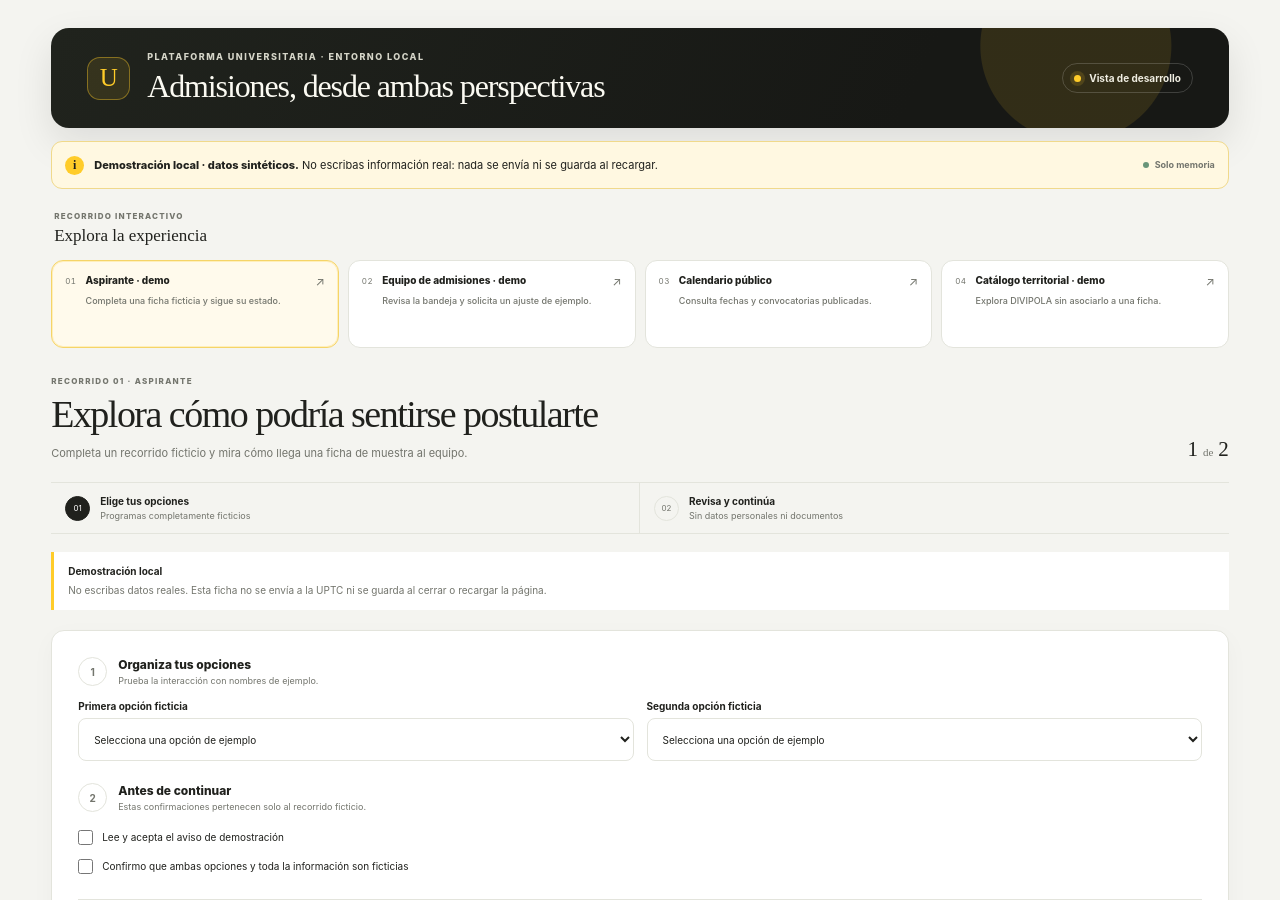
it: AdmissionsWorkflowLab › offers a reference-only territorial selector that does not create an admissions case
This screenshot has width=1280, height=900.
Click the tab "Catálogo territorial": (1085, 304) [941,260,1229,348]
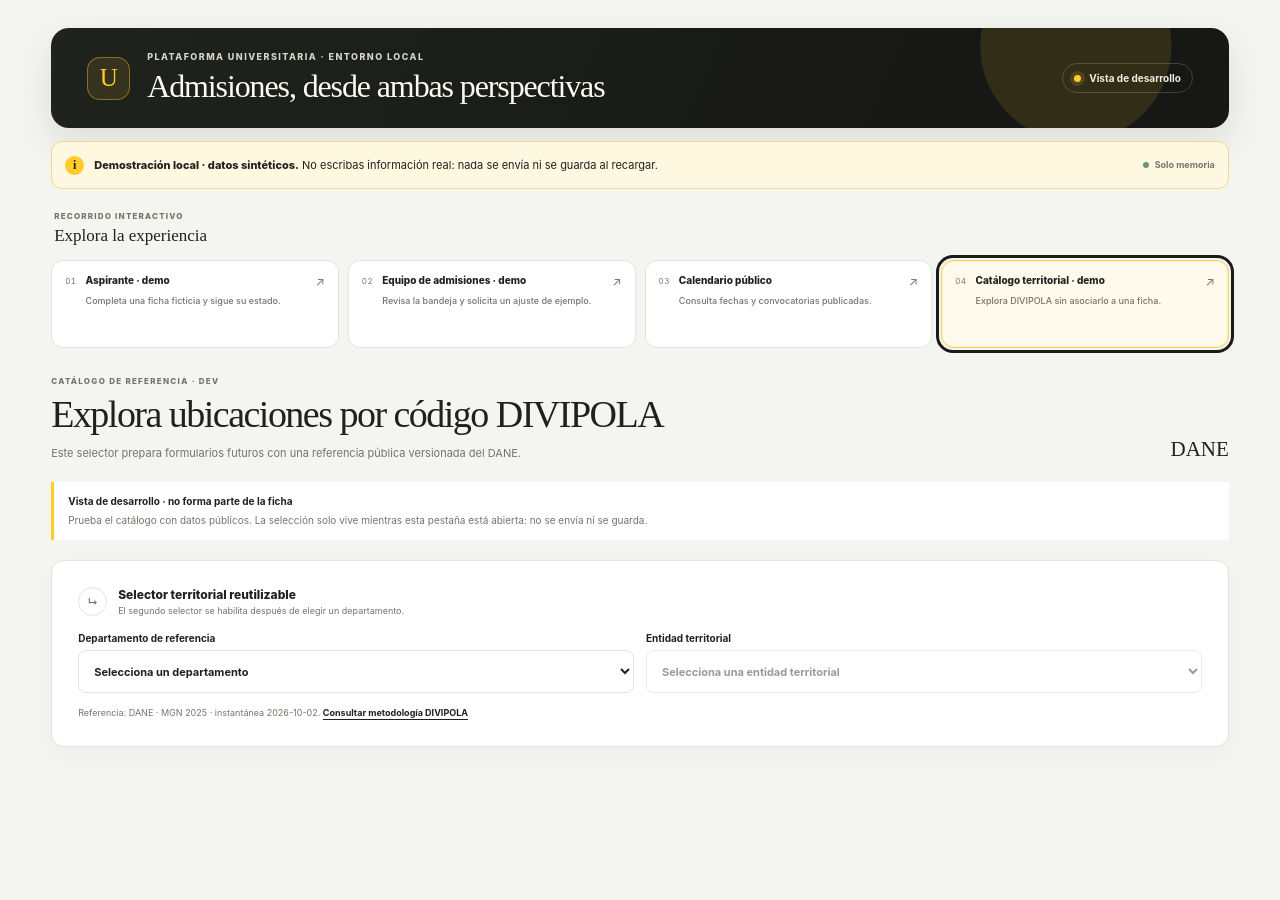
Select "BOYACÁ · 15" in the dropdown labelled "Departamento de referencia": (356, 672) [78,650,634,693]
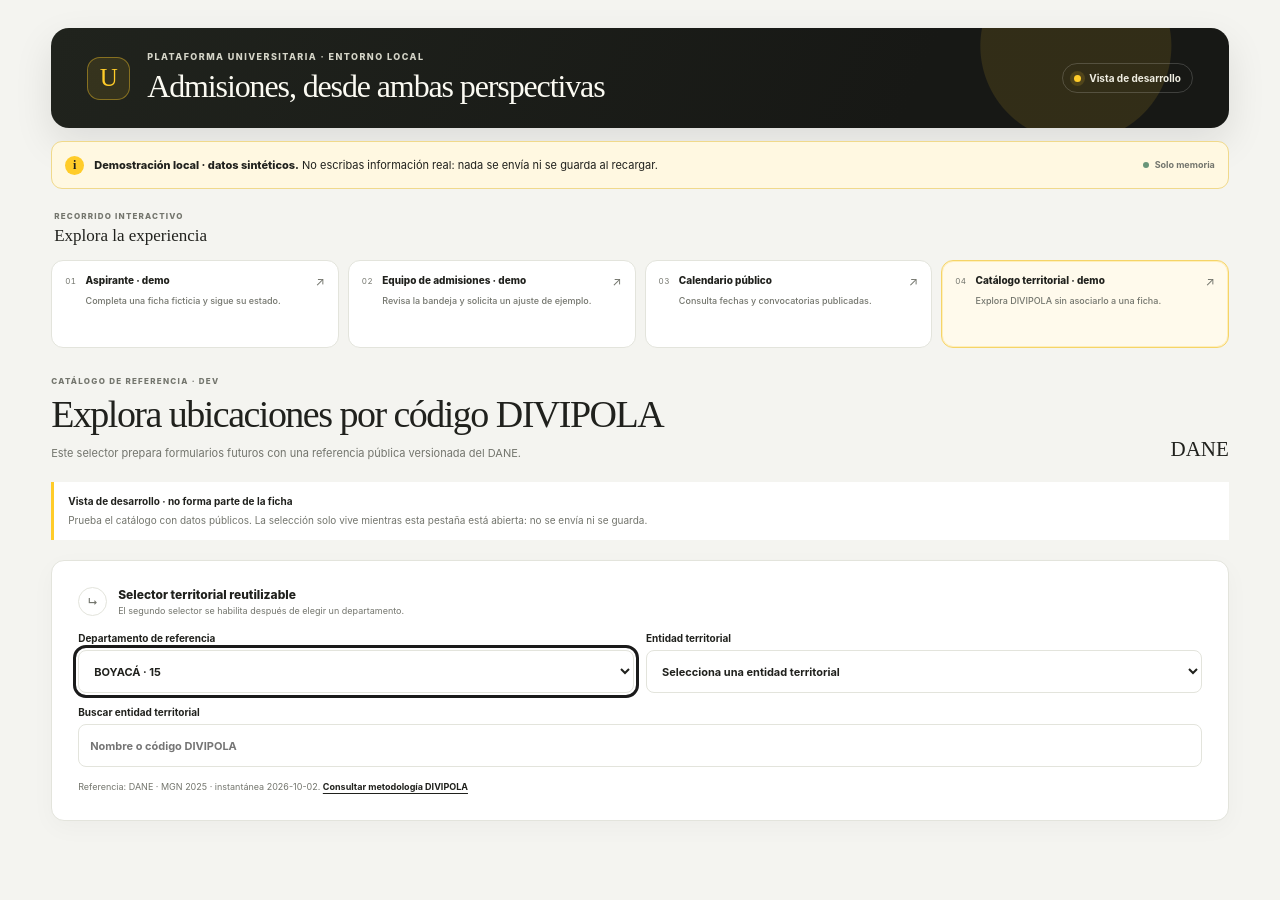
Select "Municipio · TUNJA · 15001" in the dropdown labelled "Entidad territorial": (924, 672) [646,650,1202,693]
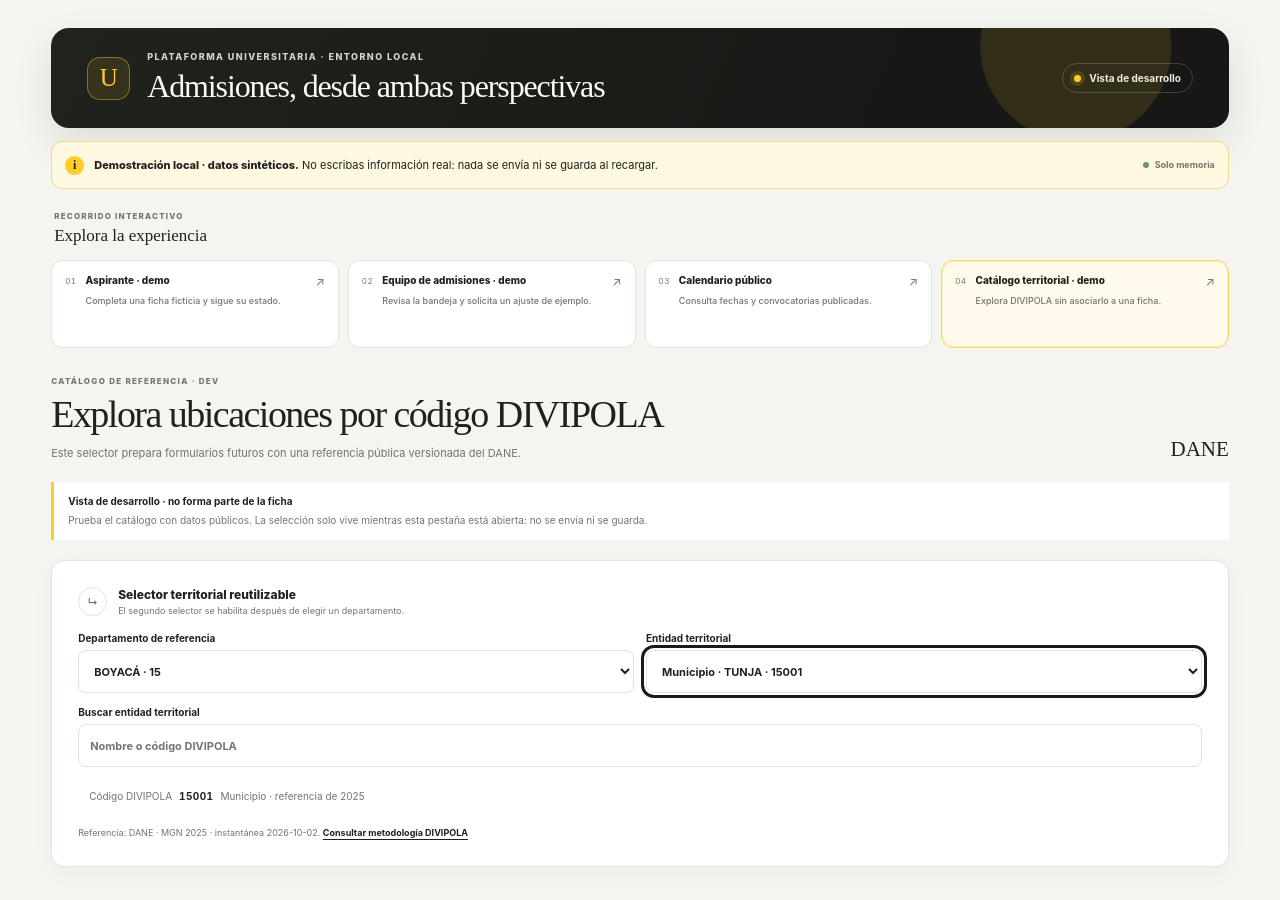
Check: the text "15001" is shown, box [179,789,213,804]
